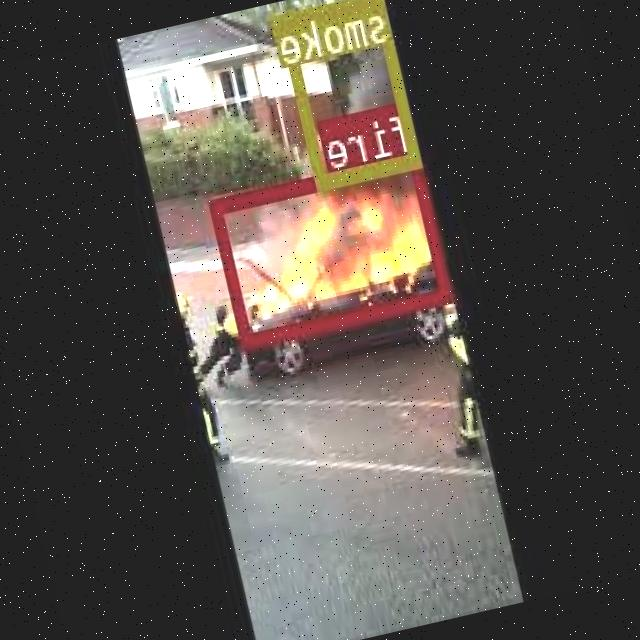fire: (211, 150, 455, 344)
smoke: (279, 0, 424, 186)
